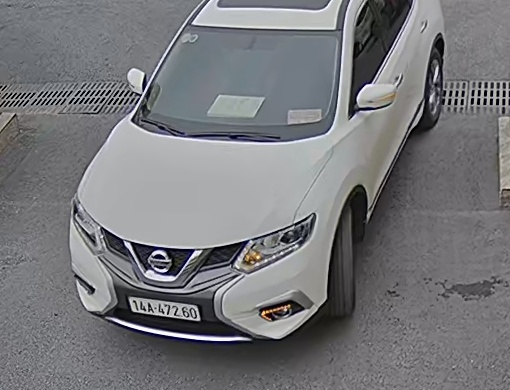vehicle plate: (127, 291, 201, 324)
